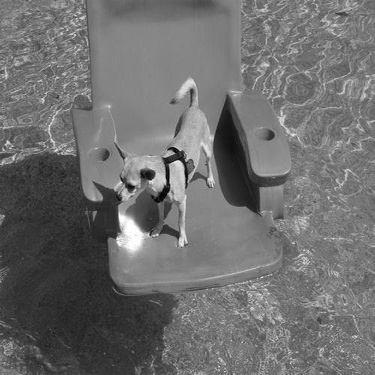dog: (107, 68, 220, 255)
